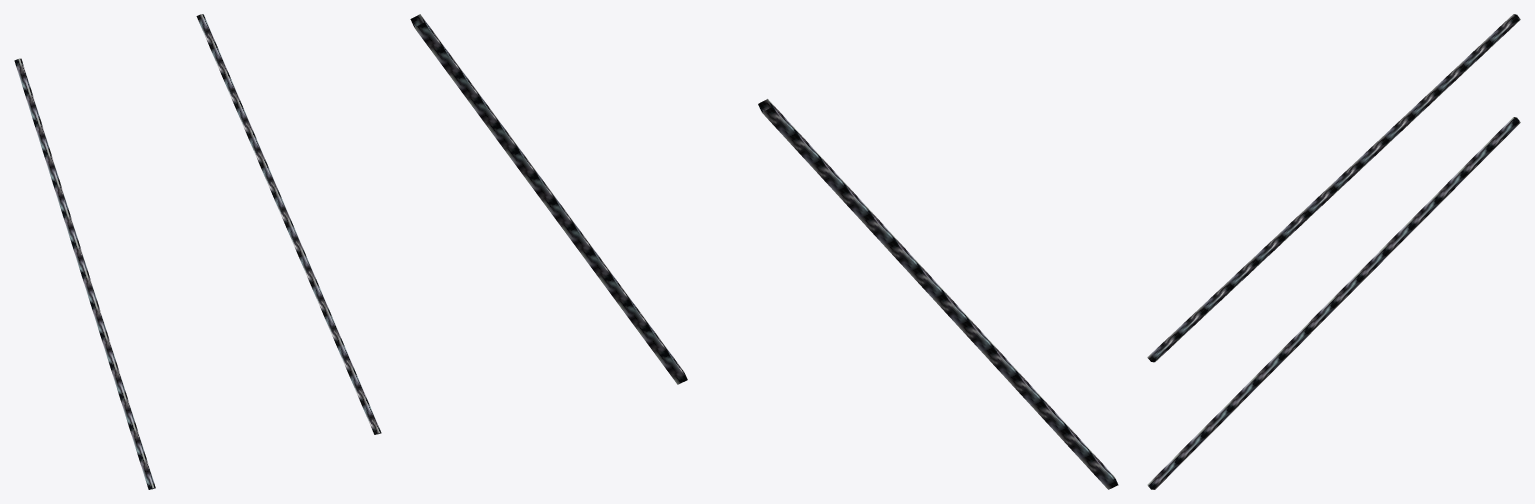
3 renders of one model, left to right at view 1: azimuth 30°, elevation 25°; view 2: azimuth 150°, elevation 25°; view 3: azimuth 270°, elevation 25°, orthographic. The views are drawn at different scales.
Visible parts, largest first — view 1: cc51; view 2: cc51; view 3: cc51.
Boxes of the visible parts, x1,y1,x2,y2 form: cc51: (14,14,381,489); cc51: (410,14,1118,489); cc51: (1147,14,1520,489).
Size of the model in its own units: 4.3 by 5.52 by 5.16.
Materials: 1 (1 with a texture image).
